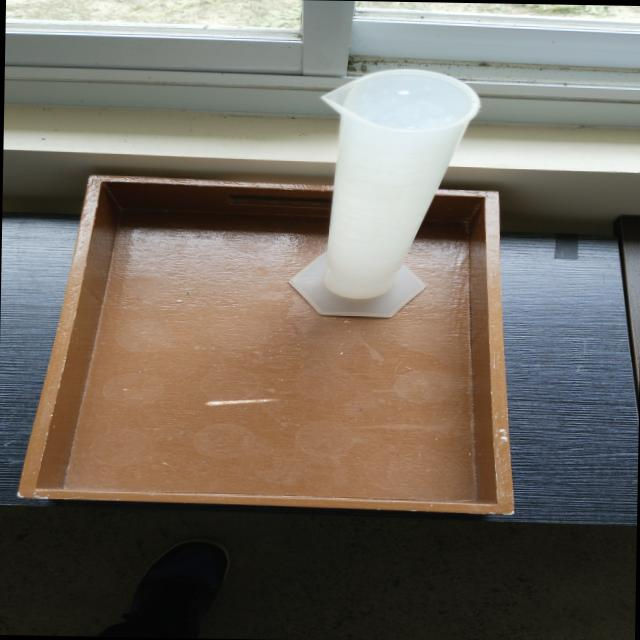graduated_cylinder: (280, 59, 487, 325)
